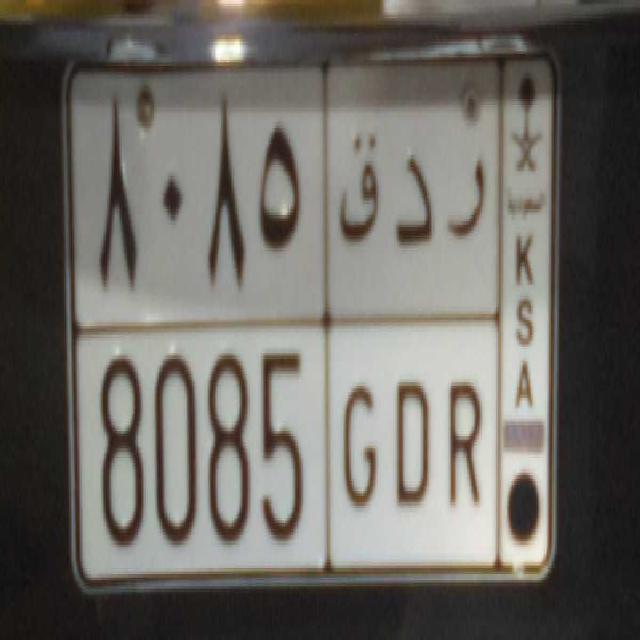license_plate: (82, 322, 500, 570)
